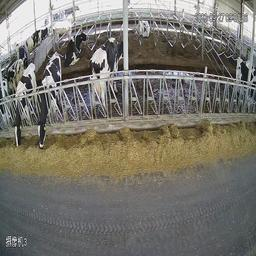cow: (35, 48, 62, 158), (90, 33, 123, 117), (15, 63, 37, 148), (63, 29, 86, 67), (47, 18, 72, 42), (27, 24, 48, 49), (5, 58, 21, 85), (136, 16, 151, 42), (15, 41, 31, 63)
